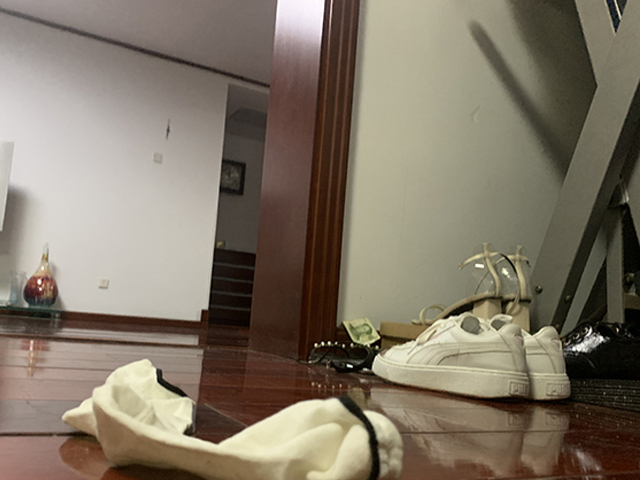socks: (60, 357, 404, 480)
